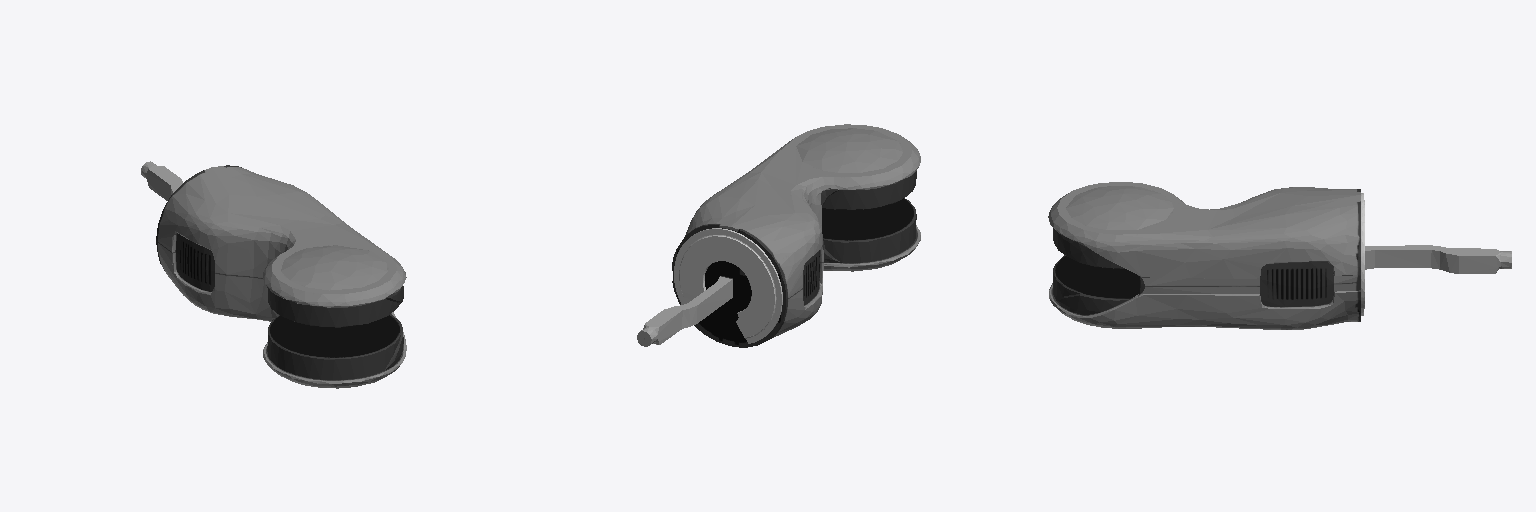
3 views of the same model, side by side, from view 1: azimuth 30°, elevation 25°; view 2: azimuth 150°, elevation 25°; view 3: azimuth 270°, elevation 25° (orthographic).
Visible parts, largest first — view 1: /ambf/env/pr2/l_upper_arm_roll_link_/ambf/env/pr2/l_upper_arm_ro; view 2: /ambf/env/pr2/l_upper_arm_roll_link_/ambf/env/pr2/l_upper_arm_ro; view 3: /ambf/env/pr2/l_upper_arm_roll_link_/ambf/env/pr2/l_upper_arm_ro.
Part boxes in pixels (bbox=[...]): /ambf/env/pr2/l_upper_arm_roll_link_/ambf/env/pr2/l_upper_arm_ro: bbox=[141, 161, 406, 388]; /ambf/env/pr2/l_upper_arm_roll_link_/ambf/env/pr2/l_upper_arm_ro: bbox=[637, 124, 920, 347]; /ambf/env/pr2/l_upper_arm_roll_link_/ambf/env/pr2/l_upper_arm_ro: bbox=[1048, 182, 1511, 329].
Bounding box in the file's own units: 0.1694 × 0.1524 × 0.5351.
Materials: 2 (1 with a texture image).